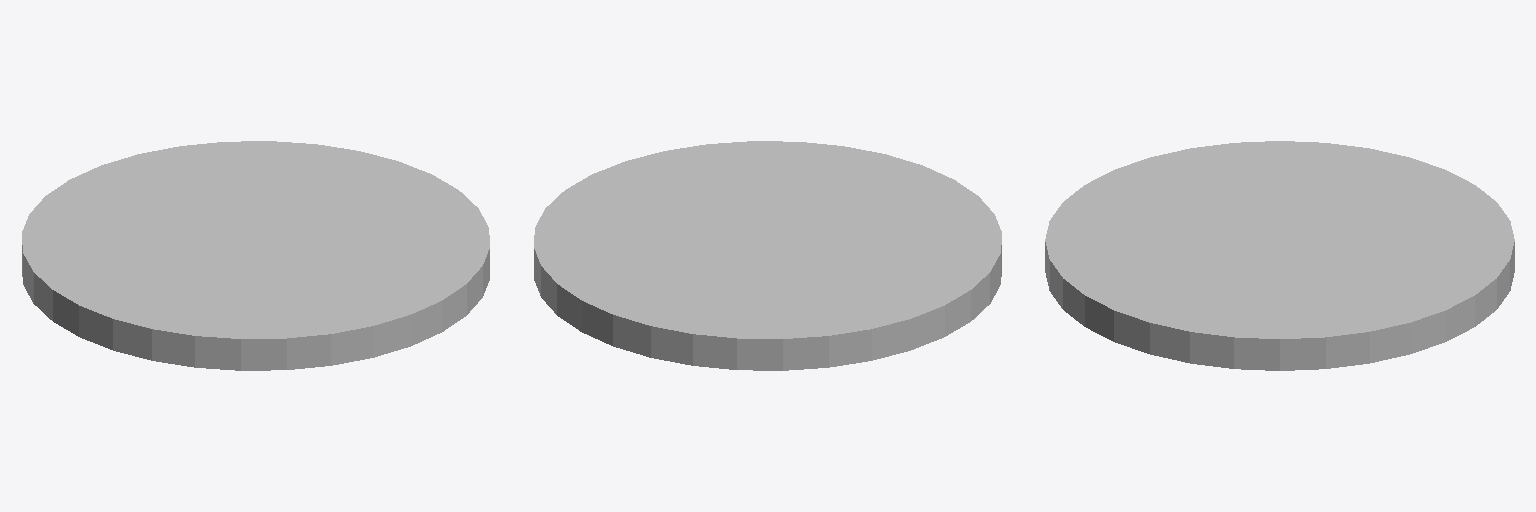
File: bollfield.obj
3 views of the same model, side by side, from view 1: azimuth 30°, elevation 25°; view 2: azimuth 150°, elevation 25°; view 3: azimuth 270°, elevation 25° (orthographic).
Parts seen in each view (by area): view 1: 円柱.002; view 2: 円柱.002; view 3: 円柱.002.
Boxes of the visible parts, <box> form: 円柱.002: <box>22,141,489,370</box>; 円柱.002: <box>534,141,1001,370</box>; 円柱.002: <box>1045,141,1514,370</box>.
Size of the model in its own units: 40.13 by 2.99 by 40.13.